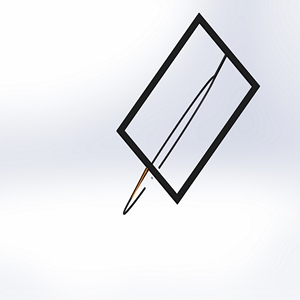circle: (115, 10, 259, 216)
